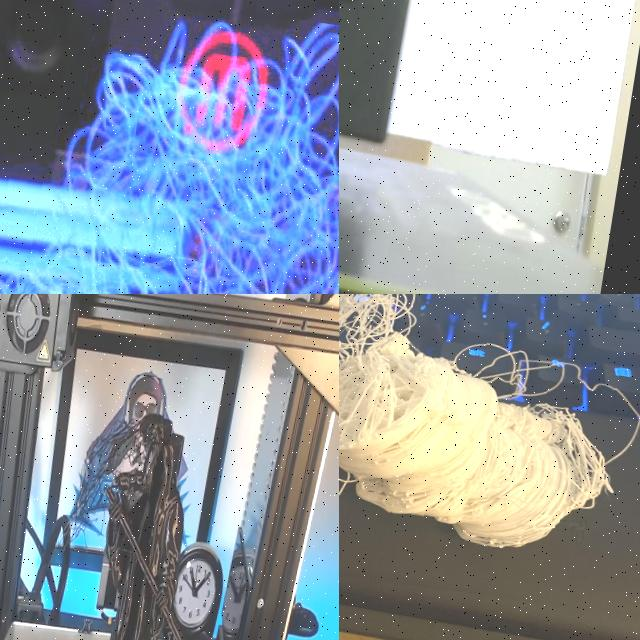spaghetti: (339, 294, 640, 632), (0, 22, 339, 294), (61, 376, 160, 553)
